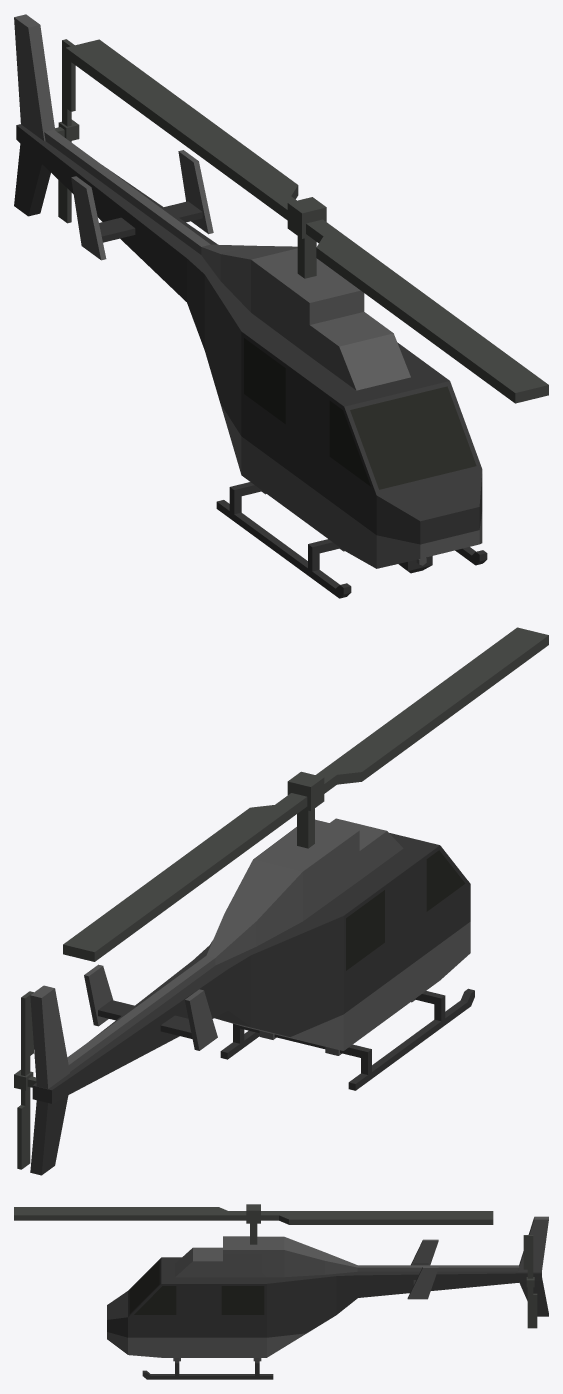
File: Veh_SWAT_Helicopter.glb
The picture shows the model from 3 angles, top to bottom: view 1: azimuth 30°, elevation 25°; view 2: azimuth 150°, elevation 25°; view 3: azimuth 270°, elevation 25°; orthographic projection. The views are drawn at different scales.
Visible parts, largest first — view 1: Veh_SWAT_Helicopter, Rotor_Main, Rotor_Tail; view 2: Veh_SWAT_Helicopter, Rotor_Main, Rotor_Tail; view 3: Veh_SWAT_Helicopter, Rotor_Main, Rotor_Tail.
Part boxes in pixels (x1=…): Veh_SWAT_Helicopter: x1=14, y1=14, x2=487, y2=598; Rotor_Main: x1=65, y1=39, x2=548, y2=403; Rotor_Tail: x1=55, y1=39, x2=79, y2=223; Veh_SWAT_Helicopter: x1=30, y1=818, x2=474, y2=1175; Rotor_Main: x1=63, y1=627, x2=548, y2=961; Rotor_Tail: x1=14, y1=991, x2=36, y2=1169; Veh_SWAT_Helicopter: x1=107, y1=1216, x2=548, y2=1379; Rotor_Main: x1=14, y1=1204, x2=493, y2=1244; Rotor_Tail: x1=523, y1=1235, x2=537, y2=1328.
Bounding box in the file's own units: 1.02 × 2.05 × 6.44.
Materials: 1 (1 with a texture image).
